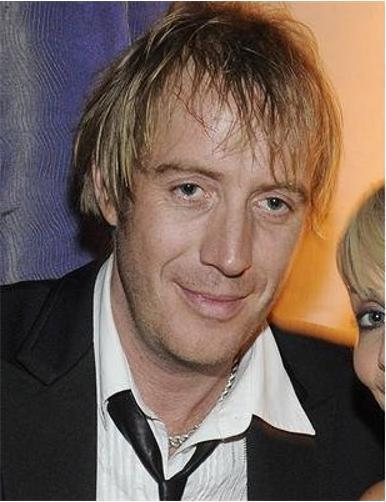Drunk: (132, 59, 297, 364)
